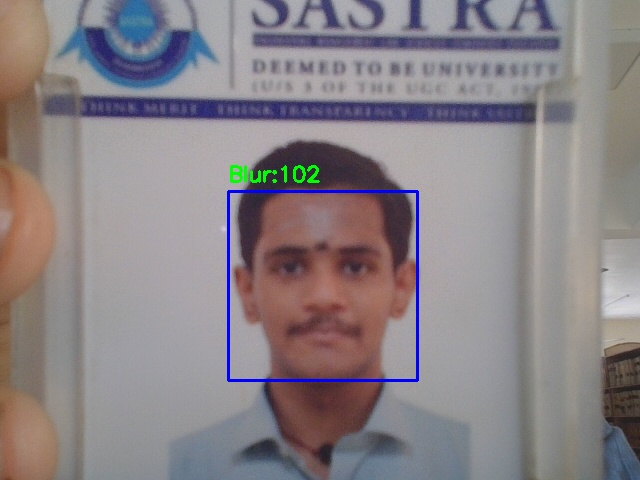fake: (228, 191, 417, 380)
